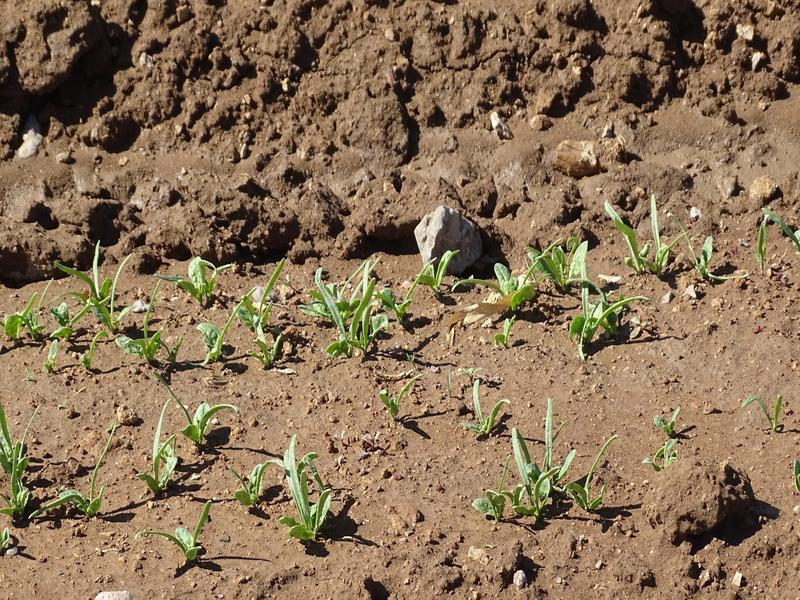Espinaca: (12, 250, 417, 371), (429, 244, 634, 358), (1, 416, 122, 529), (493, 409, 619, 513), (229, 438, 345, 542), (138, 398, 245, 487), (616, 205, 683, 271), (152, 503, 217, 569), (459, 382, 507, 434)
